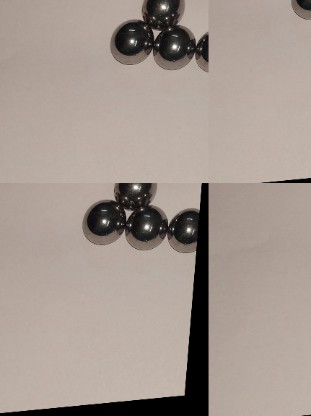ironball: (122, 201, 173, 253), (77, 199, 128, 249), (153, 23, 194, 75), (106, 23, 150, 68), (168, 202, 198, 255), (141, 0, 185, 29), (113, 181, 155, 209), (191, 30, 213, 71), (290, 0, 309, 25)
